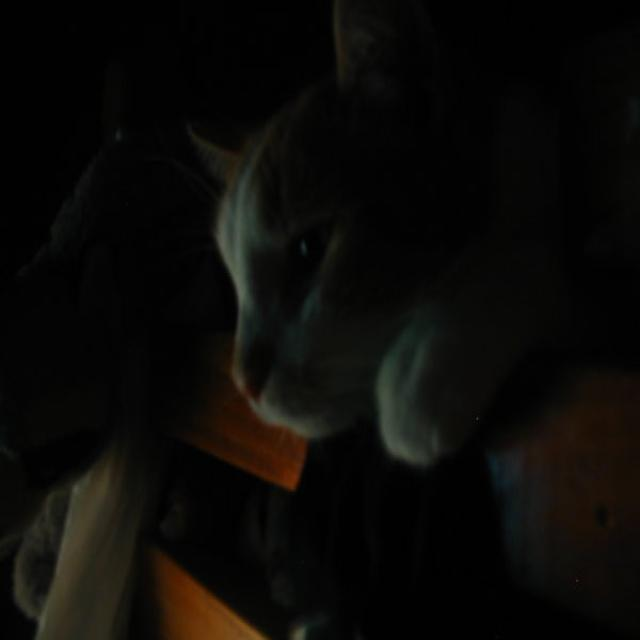Cat: (171, 3, 640, 438)
